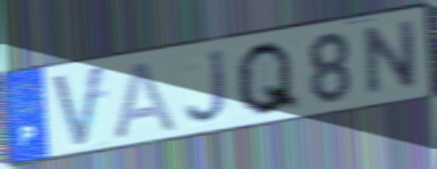8: (305, 30, 354, 107)
A: (111, 58, 181, 142)
J: (183, 46, 232, 127)
N: (362, 16, 420, 100)
Q: (234, 38, 304, 119)
V: (49, 61, 108, 152)
